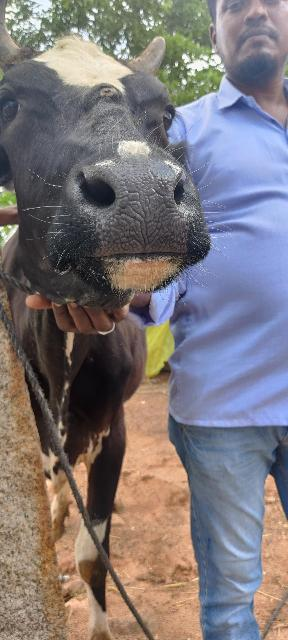Muzzle: (94, 169, 186, 255)
